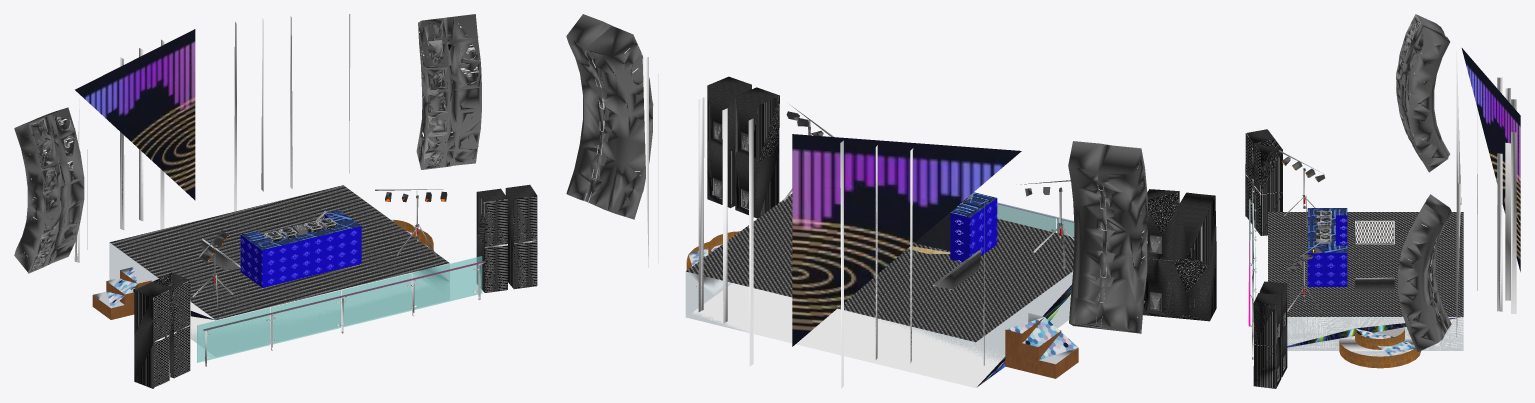
File: dj-stage.glb
3 renders of one model, left to right at view 1: azimuth 30°, elevation 25°; view 2: azimuth 150°, elevation 25°; view 3: azimuth 270°, elevation 25°, orthographic. The views are drawn at different scales.
Parts seen in each view (by area): view 1: Mesh1891_Metal_Steel_Textured_0, Mesh133_Color_008_0, Mesh1520_Material #2_0, Mesh1174_Translucent_Glass_Blue_0, Mesh1_BackColor_0, Mesh709__Fencing_Diamond_Mesh_1_0, Mesh703__Carpet_Plush_Charcoal_1_0, Mesh1891_Tile_Navy_0, Mesh42_FrontColor_0, Mesh1521_Mirror_02_0, Mesh133_Color_007_0, Mesh1891_Carrera_Marble_0 (+3 smaller); view 2: Mesh133_Color_008_0, Mesh1520_Material #2_0, Mesh1891_Metal_Steel_Textured_0, Mesh703__Carpet_Plush_Charcoal_1_0, Mesh42_FrontColor_0, Mesh1521_Mirror_02_0, Mesh1_BackColor_0, Mesh1891_Wood_Veneer_01_0, Mesh1891_Mosaic_Hexagonal_Tile_0, Mesh1891_Tile_Navy_0, Mesh1174_Translucent_Glass_Blue_0, Mesh4_Derrick_Pager_0 (+4 smaller); view 3: Mesh1891_Metal_Steel_Textured_0, Mesh133_Color_008_0, Mesh703__Carpet_Plush_Charcoal_1_0, Mesh1521_Mirror_02_0, Mesh1_BackColor_0, Mesh1520_Material #2_0, Mesh42_FrontColor_0, Mesh1891_Wood_Floor_Parquet_0, Mesh1891_Tile_Navy_0, Mesh709__Fencing_Diamond_Mesh_1_0, Mesh1891_Carrera_Marble_0, Mesh133_Fencing_Diamond_Mesh_0 (+7 smaller).
Part boxes in pixels (bbox=[...]): Mesh1891_Metal_Steel_Textured_0: bbox=[110, 185, 449, 319]; Mesh133_Color_008_0: bbox=[14, 14, 481, 273]; Mesh1520_Material #2_0: bbox=[75, 29, 195, 200]; Mesh1174_Translucent_Glass_Blue_0: bbox=[197, 256, 482, 362]; Mesh1_BackColor_0: bbox=[93, 36, 485, 366]; Mesh709__Fencing_Diamond_Mesh_1_0: bbox=[153, 195, 536, 387]; Mesh703__Carpet_Plush_Charcoal_1_0: bbox=[134, 184, 537, 388]; Mesh1891_Tile_Navy_0: bbox=[240, 226, 361, 287]; Mesh42_FrontColor_0: bbox=[22, 26, 480, 365]; Mesh1521_Mirror_02_0: bbox=[74, 14, 350, 262]; Mesh133_Color_007_0: bbox=[28, 19, 447, 271]; Mesh1891_Carrera_Marble_0: bbox=[241, 210, 361, 250]; Mesh133_Color_008_0: bbox=[566, 14, 1148, 333]; Mesh1520_Material #2_0: bbox=[792, 134, 1021, 346]; Mesh1891_Metal_Steel_Textured_0: bbox=[686, 193, 1074, 342]; Mesh703__Carpet_Plush_Charcoal_1_0: bbox=[707, 76, 1216, 321]; Mesh42_FrontColor_0: bbox=[588, 48, 1160, 388]; Mesh1521_Mirror_02_0: bbox=[642, 57, 984, 388]; Mesh1_BackColor_0: bbox=[584, 56, 1159, 364]; Mesh1891_Wood_Veneer_01_0: bbox=[1005, 318, 1078, 378]; Mesh1891_Mosaic_Hexagonal_Tile_0: bbox=[688, 244, 1077, 359]; Mesh1891_Tile_Navy_0: bbox=[970, 198, 997, 256]; Mesh1174_Translucent_Glass_Blue_0: bbox=[997, 203, 1074, 236]; Mesh4_Derrick_Pager_0: bbox=[713, 121, 1194, 310]; Mesh1891_Metal_Steel_Textured_0: bbox=[1268, 212, 1463, 316]; Mesh133_Color_008_0: bbox=[1282, 14, 1451, 351]; Mesh703__Carpet_Plush_Charcoal_1_0: bbox=[1245, 129, 1287, 388]; Mesh1521_Mirror_02_0: bbox=[1456, 51, 1516, 337]; Mesh1_BackColor_0: bbox=[1248, 149, 1463, 379]; Mesh1520_Material #2_0: bbox=[1461, 48, 1520, 271]; Mesh42_FrontColor_0: bbox=[1252, 33, 1463, 358]; Mesh1891_Wood_Floor_Parquet_0: bbox=[1339, 329, 1420, 368]; Mesh1891_Tile_Navy_0: bbox=[1307, 252, 1347, 286]; Mesh709__Fencing_Diamond_Mesh_1_0: bbox=[1245, 133, 1260, 235]; Mesh1891_Carrera_Marble_0: bbox=[1307, 208, 1347, 252]; Mesh133_Fencing_Diamond_Mesh_0: bbox=[1355, 221, 1393, 243].
Size of the model in its own units: 3.27 by 1.4 by 1.87.
73 materials, 24 textured.
